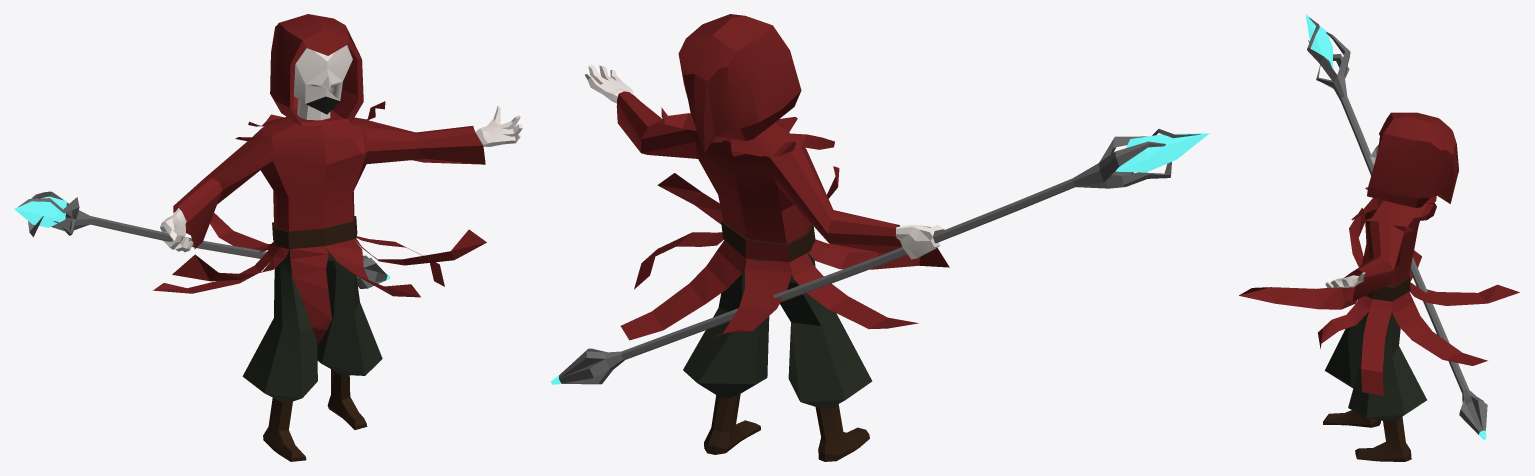
File: Necromancer_.fbx
3 views of the same model, side by side, from view 1: azimuth 30°, elevation 25°; view 2: azimuth 150°, elevation 25°; view 3: azimuth 270°, elevation 25° (orthographic). The views are drawn at different scales.
Visible parts, largest first — view 1: head, paski, kaptur, laska, Sphere; view 2: head, kaptur, paski, laska, Sphere; view 3: head, paski, kaptur, laska, Sphere.
Part boxes in pixels (bbox=[...]): head: bbox=[160, 45, 522, 461]; paski: bbox=[153, 213, 486, 343]; kaptur: bbox=[235, 14, 385, 154]; laska: bbox=[18, 191, 390, 288]; Sphere: bbox=[14, 196, 66, 227]; head: bbox=[585, 64, 944, 461]; kaptur: bbox=[661, 14, 834, 156]; paski: bbox=[620, 166, 949, 340]; laska: bbox=[551, 129, 1200, 384]; Sphere: bbox=[1116, 133, 1209, 172]; head: bbox=[1323, 138, 1436, 461]; paski: bbox=[1239, 208, 1519, 396]; kaptur: bbox=[1351, 112, 1458, 233]; laska: bbox=[1307, 17, 1487, 439]; Sphere: bbox=[1305, 14, 1333, 68].
Size of the model in its own units: 213 by 151 by 115.
